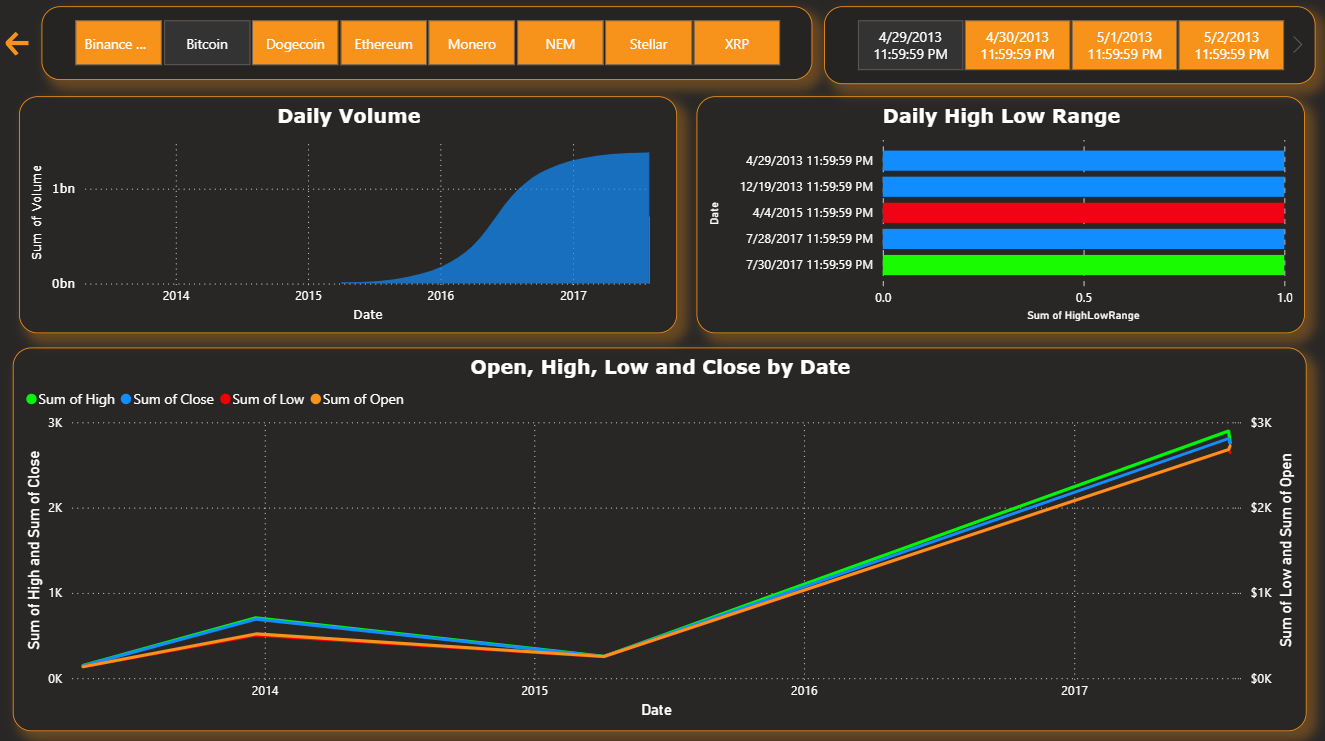

The page's visual inventory and layout, read from the dashboard file:
{"tool":"powerbi","page":{"name":"Trends Analysis","canvas":[1280,720],"ordinal":1},"visuals":[{"type":"slicer","fields":{"Values":["CryptoDataSet.Name"]},"box":[41.2,11,743.7,71.4],"z":0},{"type":"slicer","fields":{"Values":["CryptoDataSet.Date"]},"box":[795.9,11,474.8,75.5],"z":1000},{"type":"ribbonChart","title":"Daily Volume ","fields":{"Category":["CryptoDataSet.Date"],"Y":["Sum(CryptoDataSet.Volume)"]},"box":[19.2,97.4,635.3,229.2],"z":2000},{"type":"barChart","title":"Daily High Low Range ","fields":{"Y":["Sum(CryptoDataSet.HighLowRange)"],"Category":["CryptoDataSet.Date"]},"box":[673.8,97.4,587.3,229.2],"z":3000},{"type":"lineChart","title":"Open, High, Low and Close by Date","fields":{"Y":["Sum(CryptoDataSet.High)","Sum(CryptoDataSet.Close)"],"Y2":["Sum(CryptoDataSet.Low)","Sum(CryptoDataSet.Open)"],"Category":["CryptoDataSet.Date"]},"box":[13.7,340.3,1248.7,370.5],"z":4000},{"type":"actionButton","box":[2.7,26.1,31.6,41.2],"z":5000}]}

Visuals, with their boxes in screenshot pixels (x1, y1, x2, y2), scaled from the page's 1280x720 canvas onto the 1325x741 screenshot:
slicer - CryptoDataSet.Name: crop(43, 11, 812, 85)
slicer - CryptoDataSet.Date: crop(824, 11, 1315, 89)
"Daily Volume " ribbonChart: crop(20, 100, 678, 336)
"Daily High Low Range " barChart: crop(697, 100, 1305, 336)
"Open, High, Low and Close by Date" lineChart: crop(14, 350, 1307, 732)
actionButton: crop(3, 27, 36, 69)
